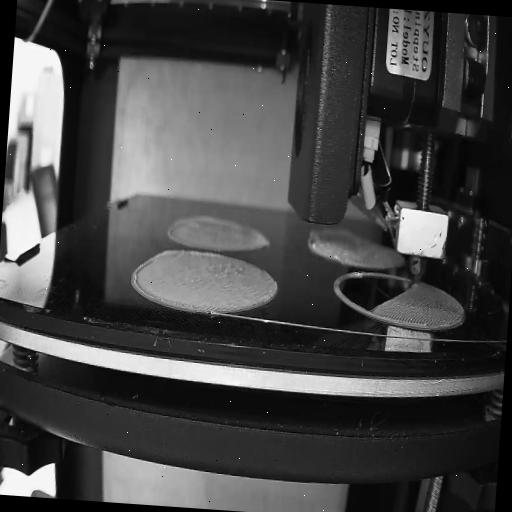over_extrusion: (130, 252, 152, 300)
